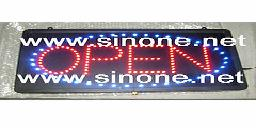LED: (34, 45, 222, 74)
